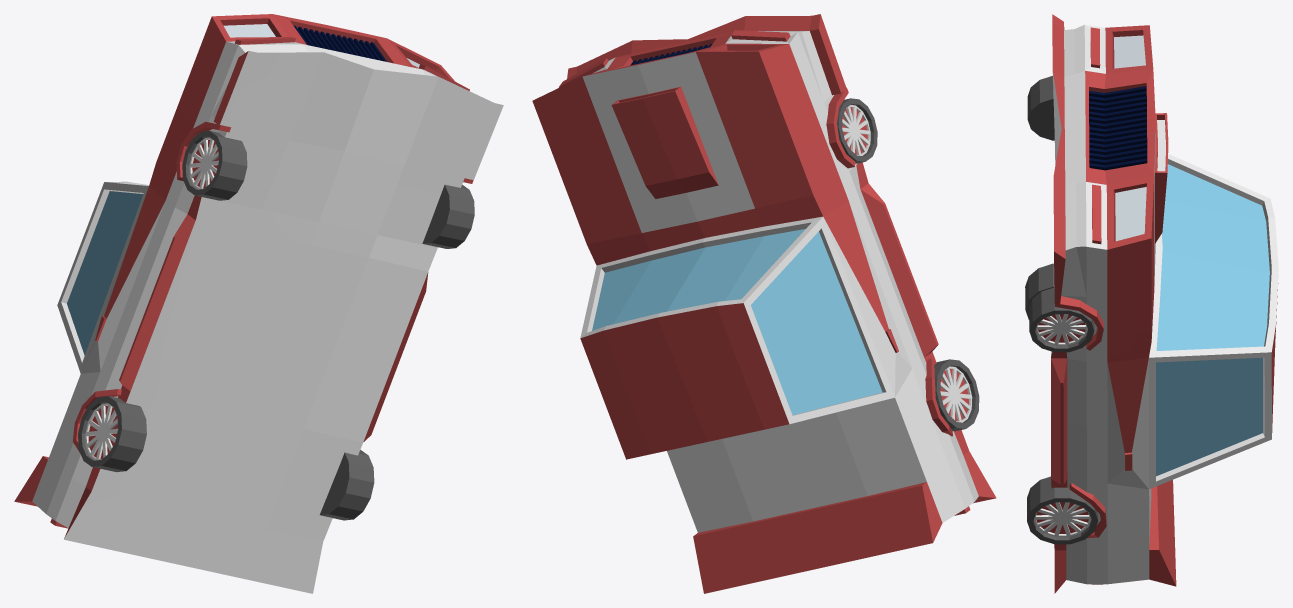
The model's file is Low-Poly-Racing-Car_Edit.fbx.
The picture shows the model from 3 angles, left to right: view 1: azimuth 30°, elevation 25°; view 2: azimuth 150°, elevation 25°; view 3: azimuth 270°, elevation 25°; orthographic projection. The views are drawn at different scales.
Parts seen in each view (by area): view 1: body; view 2: body; view 3: body.
Boxes of the visible parts, x1,y1,x2,y2 form: body: [14, 14, 503, 593]; body: [532, 14, 996, 593]; body: [1025, 14, 1278, 593].
Bounding box in the file's own units: 864208 × 1055679 × 442406.
